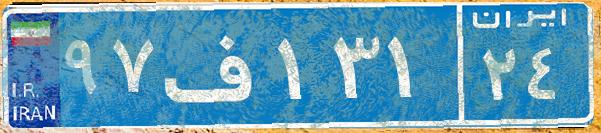1: (385, 28, 445, 110), (273, 28, 330, 110)
2: (475, 38, 525, 113)
3: (330, 28, 385, 110)
4: (525, 38, 570, 115)
7: (110, 28, 158, 105)
9: (57, 26, 110, 107)
ف: (158, 15, 273, 115)
